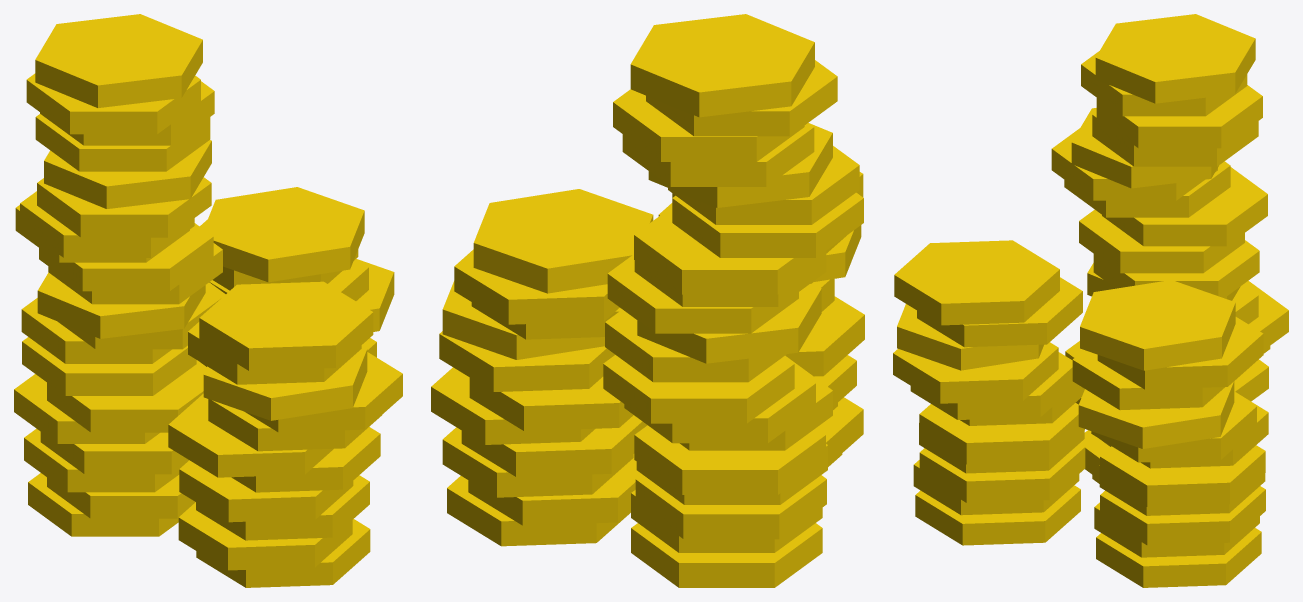
Rendered from coin1.fbx.
3 views of the same model, side by side, from view 1: azimuth 30°, elevation 25°; view 2: azimuth 150°, elevation 25°; view 3: azimuth 270°, elevation 25° (orthographic). The views are drawn at different scales.
Parts seen in each view (by area): view 1: coin1; view 2: coin1; view 3: coin1.
Boxes of the visible parts, box(x1,y1,x2,y2) form: coin1: box(14, 14, 402, 587); coin1: box(431, 14, 864, 587); coin1: box(893, 14, 1288, 587).
Size of the model in its own units: 28.44 by 35.28 by 29.26.
